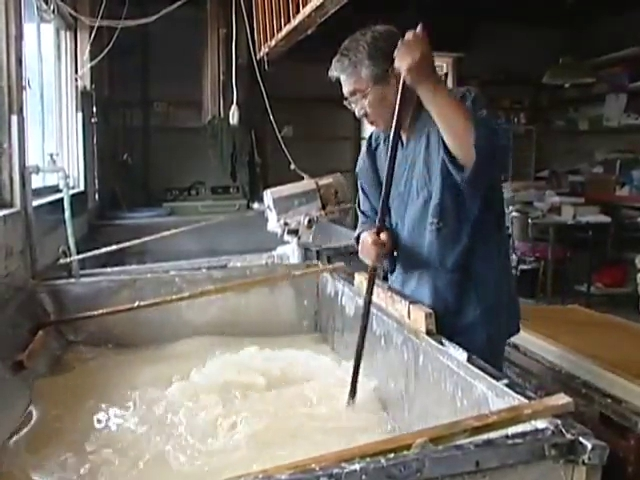person: (327, 24, 520, 373)
